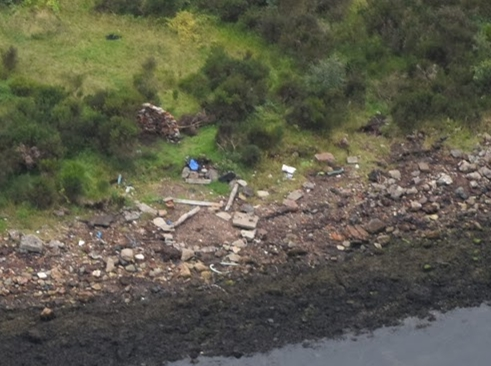scattered_barrel: (277, 146, 364, 183)
straight_bar: (168, 205, 207, 231), (170, 194, 221, 210), (223, 181, 245, 214)
white_in_green: (171, 143, 215, 183)
